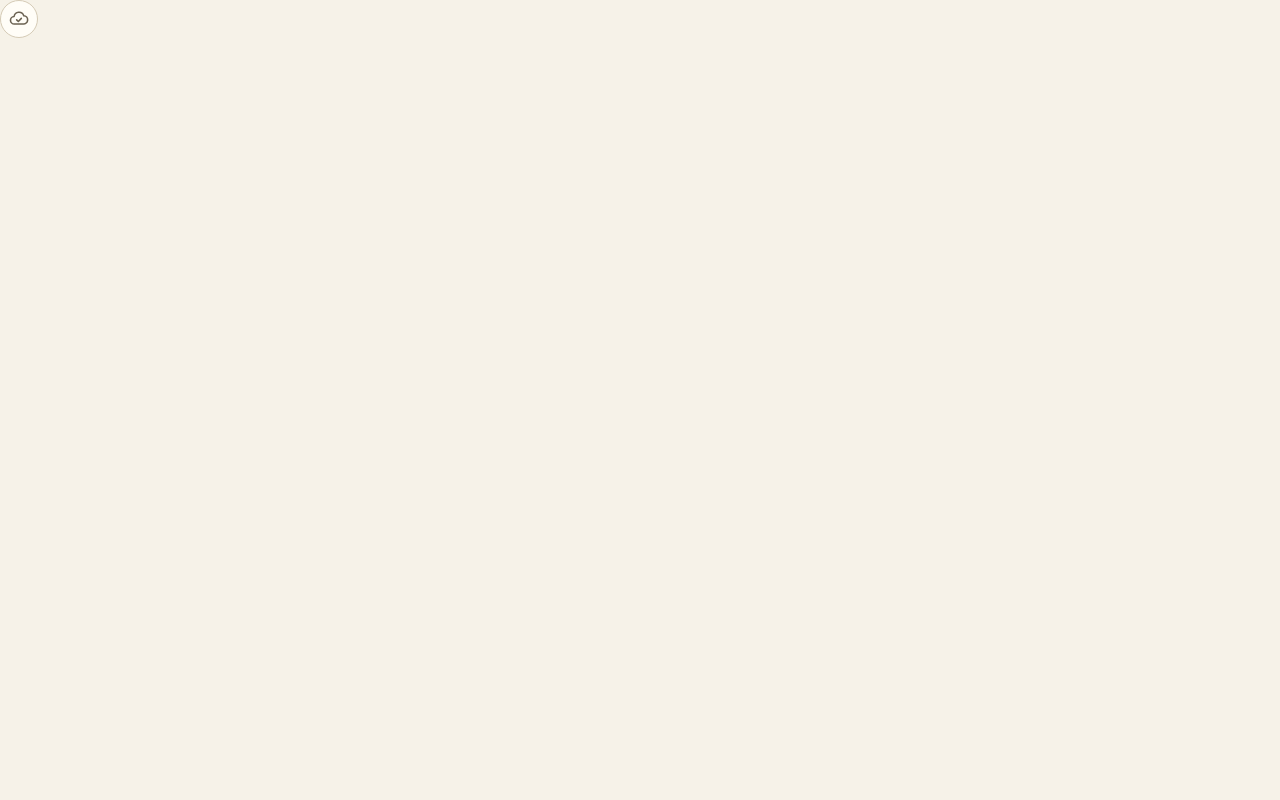
Test: CloudBadge › opens the status menu with version, writer and device list
Step 1. Click the button named "Cloud-Abgleich" → (19, 19), box [0,0,38,38]
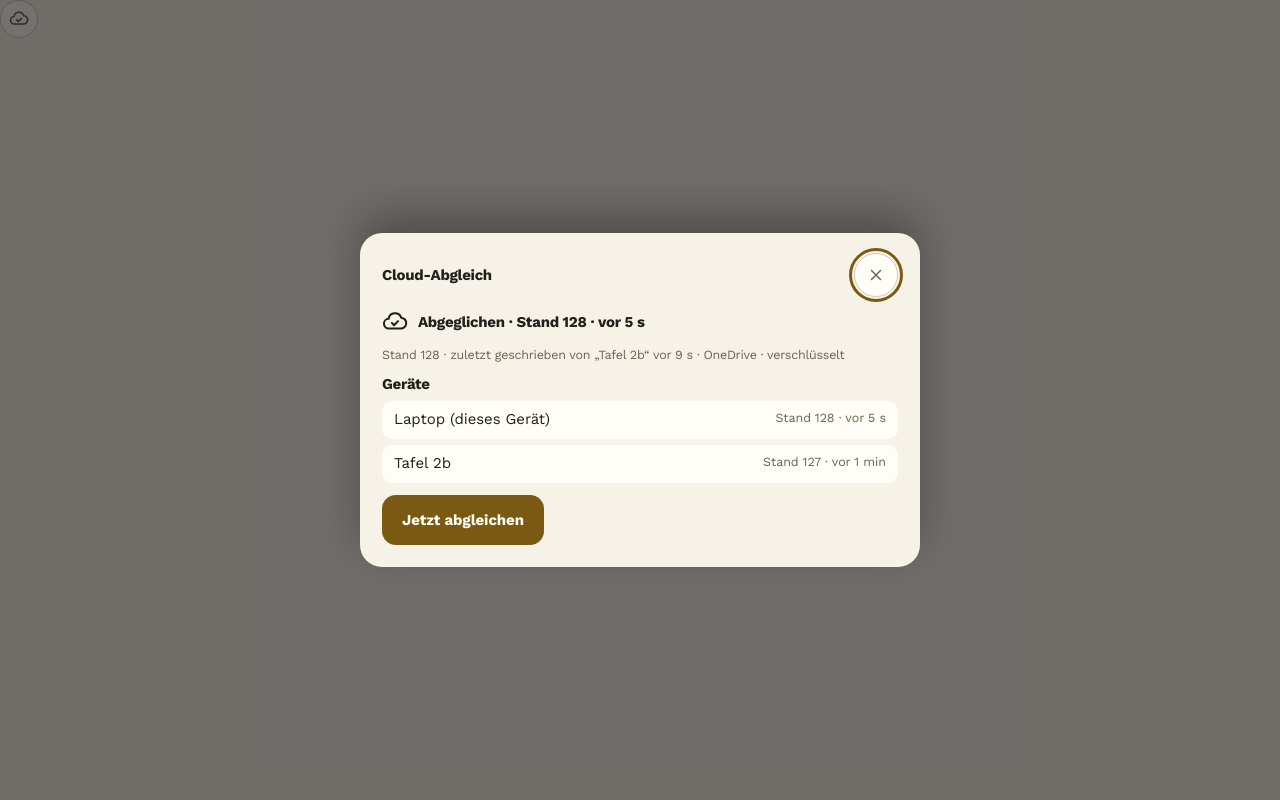
Now the text "OneDrive · verschlüsselt" is shown, box [382,347,898,363]
Now the number of list items is 2, box [382,401,898,439]; [382,445,898,483]
Now the text "Laptop (dieses Gerät)" is shown, box [394,409,550,431]
